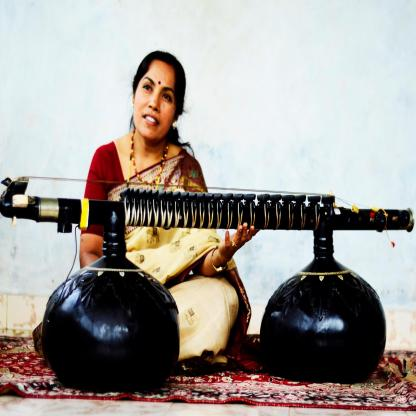Veena: (1, 166, 416, 260)
